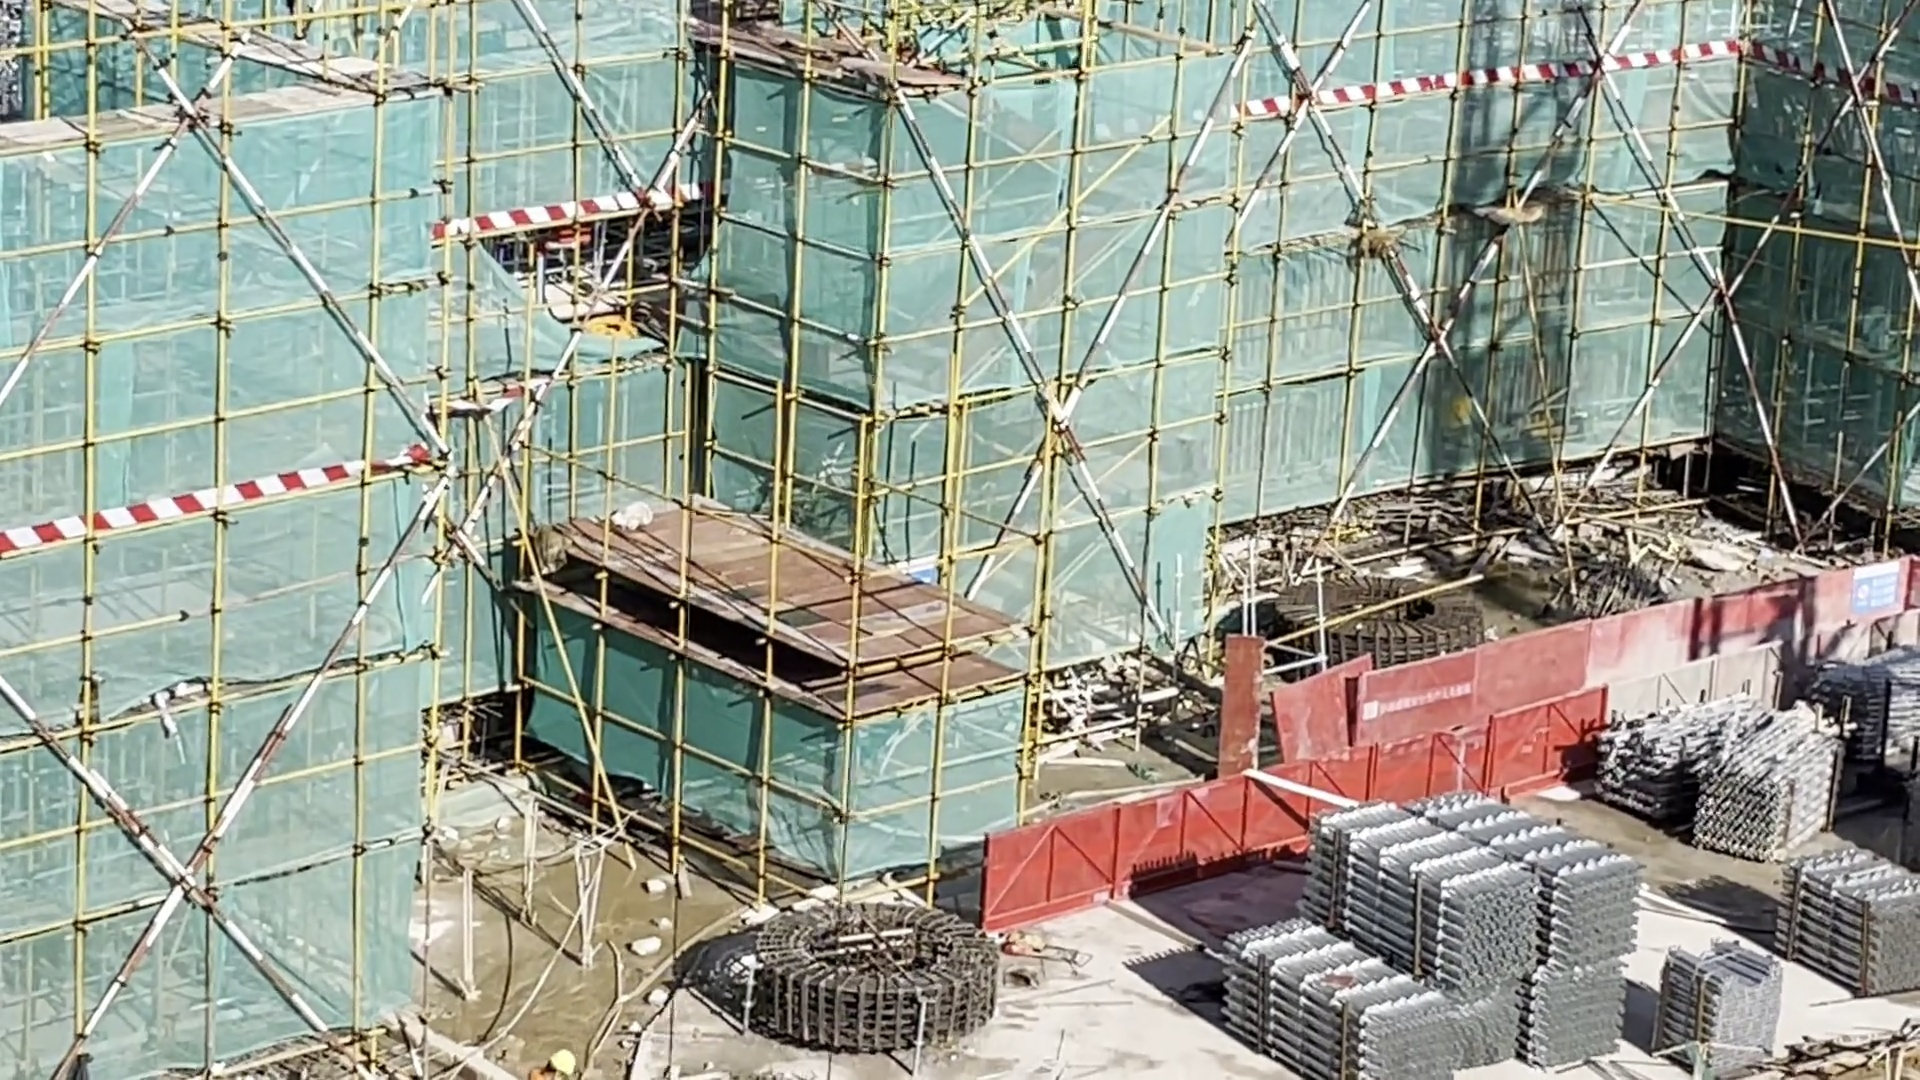fence: (976, 612, 1920, 936)
scaffold: (1218, 793, 1633, 1080), (1584, 699, 1836, 858), (1771, 858, 1920, 992), (1654, 930, 1783, 1080)
